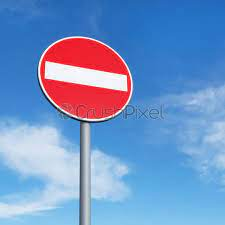No entry: (38, 37, 135, 123)
